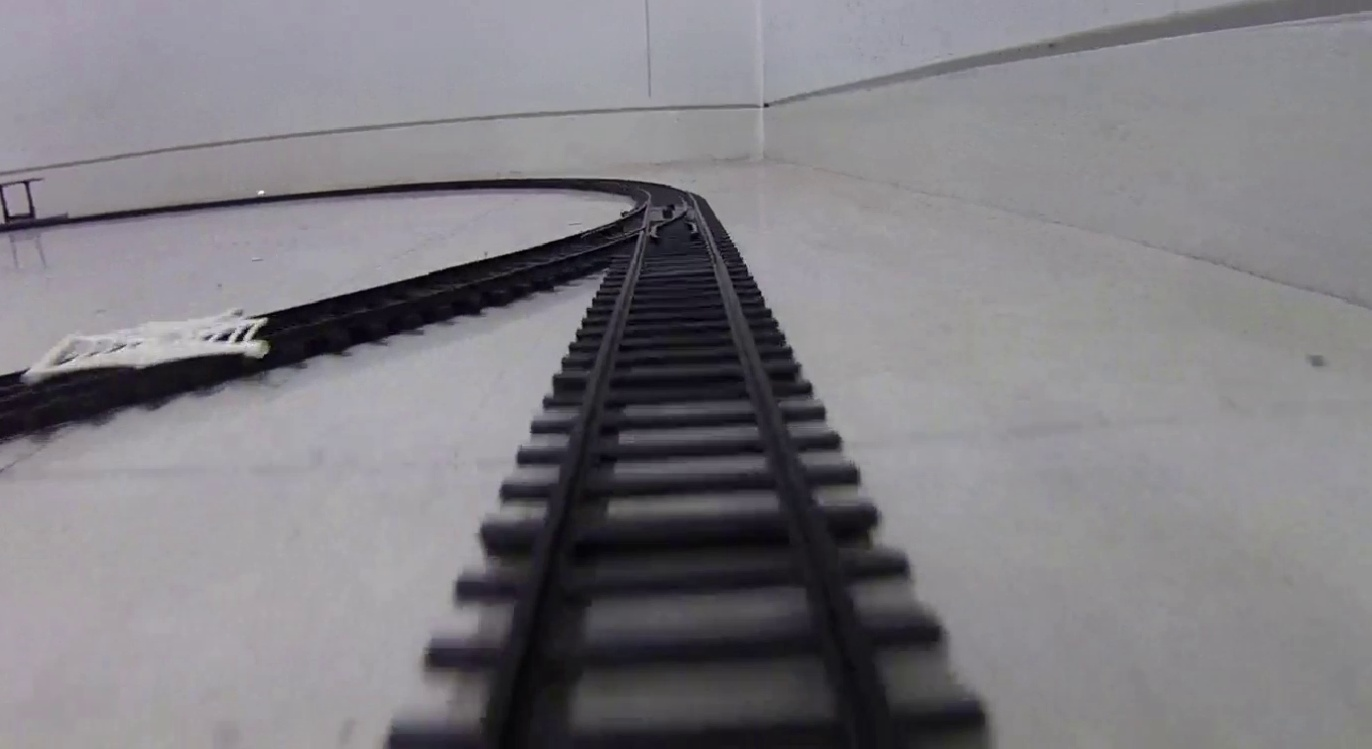web: (31, 313, 267, 366)
